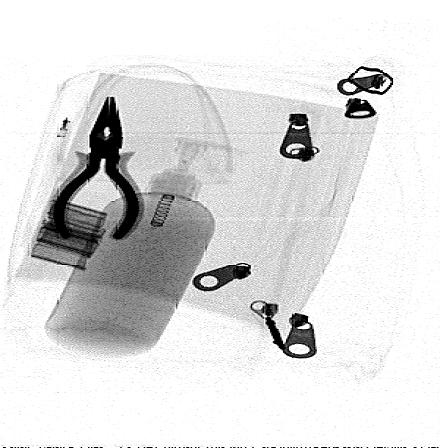Pliers: (51, 94, 142, 244)
